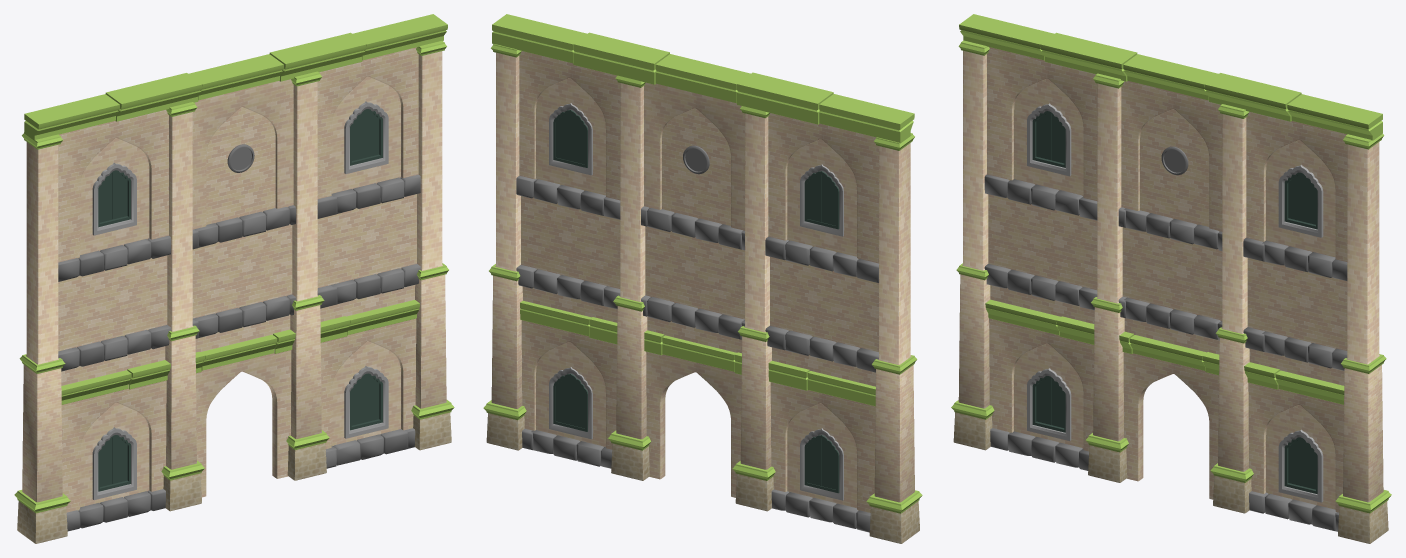
The model's file is SM_wall_large_02.fbx.
The picture shows the model from 3 angles, left to right: view 1: azimuth 30°, elevation 25°; view 2: azimuth 150°, elevation 25°; view 3: azimuth 330°, elevation 25°; orthographic projection.
Visible parts, largest first — view 1: Object33160; view 2: Object33160; view 3: Object33160.
Part boxes in pixels (box(x1,y1,x2,y2)): Object33160: box(14, 14, 454, 543); Object33160: box(483, 14, 922, 543); Object33160: box(951, 14, 1391, 543).
Bounding box in the file's own units: 566 × 541 × 48.41.
